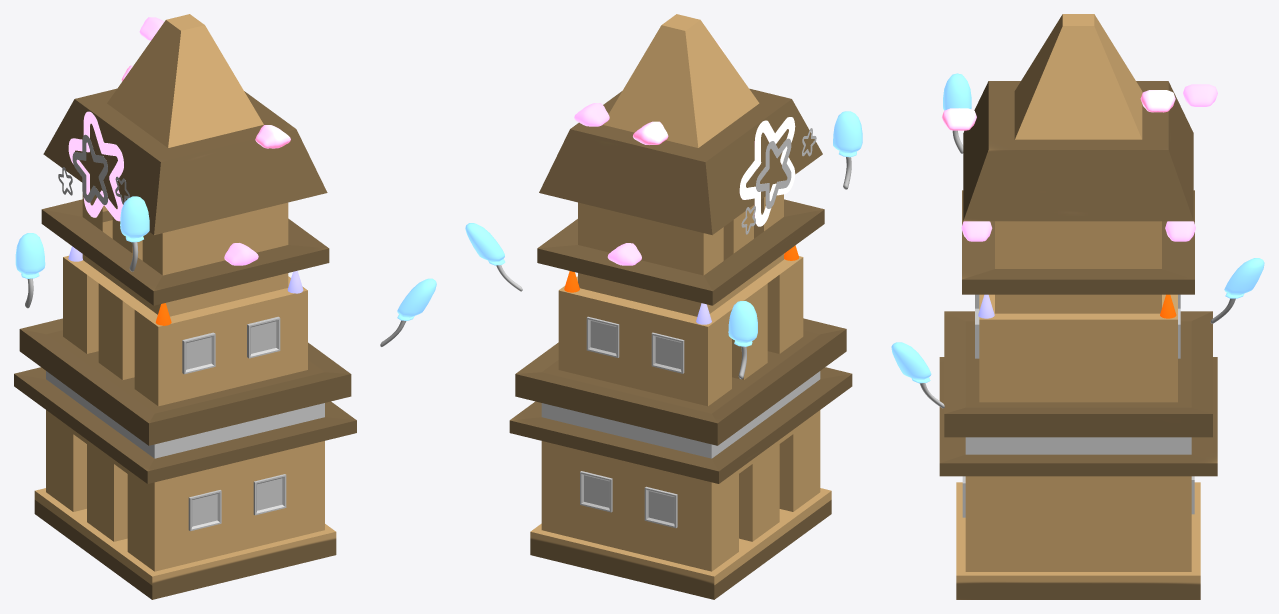
The model's file is background tower.fbx.
3 renders of one model, left to right at view 1: azimuth 30°, elevation 25°; view 2: azimuth 150°, elevation 25°; view 3: azimuth 270°, elevation 25°, orthographic. The views are drawn at different scales.
Visible parts, largest first — view 1: tower, Cube.006, Text.001, NurbsPath.001, NurbsPath, Cube.007, Cube.008, Cube.012, Cube.011, NurbsPath.003, Text, Cube.005 (+1 smaller); view 2: tower, Cube.006, Text.001, NurbsPath, NurbsPath.001, Cube.014, Cube.010, Cube.009, Cube.013, NurbsPath.002, Text, Cube.004 (+2 smaller); view 3: tower, Cube.006, NurbsPath.003, NurbsPath.002, NurbsPath, Cube.005, Cube.003, Cube.004, Cube.001, Cube.002.
Boxes of the visible parts, x1,y1,x2,y2 form: tower: (14, 14, 356, 599); Cube.006: (46, 371, 324, 458); Text.001: (68, 111, 123, 221); NurbsPath.001: (15, 233, 45, 308); NurbsPath: (120, 196, 149, 271); Cube.007: (182, 332, 215, 374); Cube.008: (247, 316, 280, 358); Cube.012: (253, 474, 286, 515); Cube.011: (188, 490, 221, 531); NurbsPath.003: (380, 278, 436, 346); Text: (72, 134, 107, 204); Cube.005: (255, 125, 290, 148); tower: (509, 14, 852, 599); Cube.006: (541, 371, 820, 458); Text.001: (739, 117, 795, 226); NurbsPath: (833, 111, 862, 189); NurbsPath.001: (728, 301, 757, 379); Cube.014: (644, 486, 677, 528); Cube.010: (651, 332, 684, 373); Cube.009: (586, 316, 619, 357); Cube.013: (580, 471, 612, 512); NurbsPath.002: (465, 223, 522, 291); Text: (756, 138, 791, 208); Cube.004: (574, 103, 609, 126); tower: (939, 14, 1217, 599); Cube.006: (965, 437, 1191, 454); NurbsPath.003: (891, 342, 944, 408); NurbsPath.002: (1210, 258, 1264, 323); NurbsPath: (943, 73, 971, 153); Cube.005: (942, 108, 976, 130); Cube.003: (1140, 90, 1175, 112); Cube.004: (1183, 84, 1217, 106); Cube.001: (961, 221, 992, 241); Cube.002: (1165, 221, 1195, 241).
Size of the model in its own units: 4154 by 7068 by 4484.
11 materials, 1 textured.
